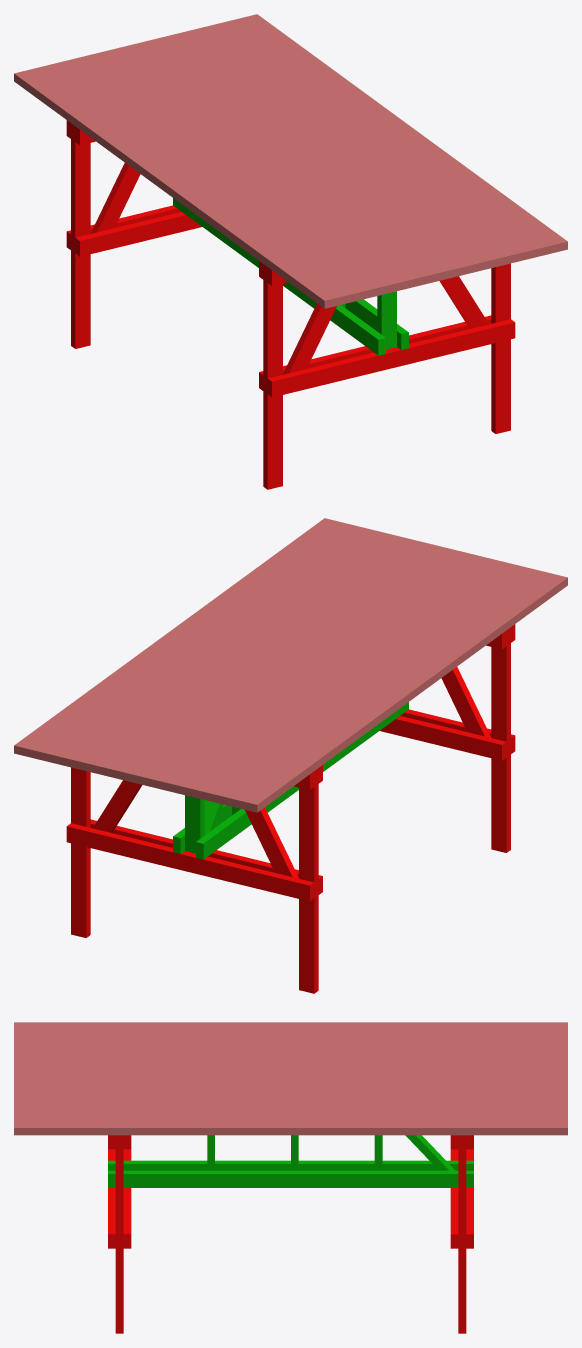
The model's file is result.glb.
3 views of the same model, one above another, from view 1: azimuth 30°, elevation 25°; view 2: azimuth 150°, elevation 25°; view 3: azimuth 270°, elevation 25° (orthographic). The views are drawn at different scales.
Visible parts, largest first — view 1: 2e5dbff4-7e6e-4b37-ae5a-a62b337b748b__Box, d8a2f453-8e41-4198-9125-2606ff28ac81__sideH, 3a6617b4-497f-40d8-8353-add4aff3ff43__undefined, c0702882-4c24-4a24-a7bd-75bc4d10ed25__undefined, 609f2d8e-eb8b-48f6-a338-ec105e350108__undefined, 65bbb1d0-a76b-483d-bd96-c185261b565a__undefined, e3b8385f-32c4-4f7a-b970-9d50a82313f0__undefined, 9fd2d7d8-3db6-44b7-8fa3-3d2e60d02439__undefined, 84f2c58b-4cb5-44fc-9f25-4331faf40ed3__undefined, 869bcd61-746a-4120-82ac-6669d7f2375c__undefined, ddca212f-6a4a-4507-9fed-6cb6863f570e__undefined, 0129117a-75e3-414b-b242-759e3826f28c__undefined (+17 smaller); view 2: 2e5dbff4-7e6e-4b37-ae5a-a62b337b748b__Box, db986cd5-3faa-4bac-8fbb-57eb998100ec__undefined, 3a6617b4-497f-40d8-8353-add4aff3ff43__undefined, c0702882-4c24-4a24-a7bd-75bc4d10ed25__undefined, 609f2d8e-eb8b-48f6-a338-ec105e350108__undefined, 65bbb1d0-a76b-483d-bd96-c185261b565a__undefined, e3b8385f-32c4-4f7a-b970-9d50a82313f0__undefined, 9fd2d7d8-3db6-44b7-8fa3-3d2e60d02439__undefined, 84f2c58b-4cb5-44fc-9f25-4331faf40ed3__undefined, 869bcd61-746a-4120-82ac-6669d7f2375c__undefined, ddca212f-6a4a-4507-9fed-6cb6863f570e__undefined, 0129117a-75e3-414b-b242-759e3826f28c__undefined (+16 smaller); view 3: 7abde069-73e8-4945-ae9b-445defb2497d__undefined, bd3e5400-415c-4033-a129-69759730e743__strutH, 9fd2d7d8-3db6-44b7-8fa3-3d2e60d02439__undefined, 0129117a-75e3-414b-b242-759e3826f28c__undefined, 869bcd61-746a-4120-82ac-6669d7f2375c__undefined, ddca212f-6a4a-4507-9fed-6cb6863f570e__undefined, 2e5dbff4-7e6e-4b37-ae5a-a62b337b748b__Box, 8a003cde-8c30-4a1c-accd-fa8a6be3bc64__undefined, 609f2d8e-eb8b-48f6-a338-ec105e350108__undefined, e3b8385f-32c4-4f7a-b970-9d50a82313f0__undefined, 84f2c58b-4cb5-44fc-9f25-4331faf40ed3__undefined, 1c7531ad-e49c-410e-b266-a51f5882a143__undefined (+13 smaller).
Boxes of the visible parts, x1=… form: 2e5dbff4-7e6e-4b37-ae5a-a62b337b748b__Box: x1=14, y1=70, x2=339, y2=308; d8a2f453-8e41-4198-9125-2606ff28ac81__sideH: x1=267, y1=319, x2=515, y2=397; 3a6617b4-497f-40d8-8353-add4aff3ff43__undefined: x1=166, y1=33, x2=491, y2=271; c0702882-4c24-4a24-a7bd-75bc4d10ed25__undefined: x1=212, y1=21, x2=537, y2=260; 609f2d8e-eb8b-48f6-a338-ec105e350108__undefined: x1=45, y1=62, x2=370, y2=301; 65bbb1d0-a76b-483d-bd96-c185261b565a__undefined: x1=227, y1=18, x2=552, y2=256; e3b8385f-32c4-4f7a-b970-9d50a82313f0__undefined: x1=60, y1=58, x2=385, y2=297; 9fd2d7d8-3db6-44b7-8fa3-3d2e60d02439__undefined: x1=75, y1=55, x2=400, y2=293; 84f2c58b-4cb5-44fc-9f25-4331faf40ed3__undefined: x1=90, y1=51, x2=415, y2=289; 869bcd61-746a-4120-82ac-6669d7f2375c__undefined: x1=151, y1=36, x2=476, y2=275; ddca212f-6a4a-4507-9fed-6cb6863f570e__undefined: x1=197, y1=25, x2=522, y2=264; 0129117a-75e3-414b-b242-759e3826f28c__undefined: x1=120, y1=44, x2=446, y2=282; 2e5dbff4-7e6e-4b37-ae5a-a62b337b748b__Box: x1=242, y1=574, x2=567, y2=812; db986cd5-3faa-4bac-8fbb-57eb998100ec__undefined: x1=66, y1=823, x2=314, y2=901; 3a6617b4-497f-40d8-8353-add4aff3ff43__undefined: x1=90, y1=537, x2=415, y2=775; c0702882-4c24-4a24-a7bd-75bc4d10ed25__undefined: x1=44, y1=525, x2=369, y2=764; 609f2d8e-eb8b-48f6-a338-ec105e350108__undefined: x1=211, y1=566, x2=536, y2=805; 65bbb1d0-a76b-483d-bd96-c185261b565a__undefined: x1=29, y1=522, x2=354, y2=760; e3b8385f-32c4-4f7a-b970-9d50a82313f0__undefined: x1=196, y1=562, x2=521, y2=801; 9fd2d7d8-3db6-44b7-8fa3-3d2e60d02439__undefined: x1=181, y1=559, x2=506, y2=797; 84f2c58b-4cb5-44fc-9f25-4331faf40ed3__undefined: x1=166, y1=555, x2=491, y2=793; 869bcd61-746a-4120-82ac-6669d7f2375c__undefined: x1=105, y1=540, x2=430, y2=779; ddca212f-6a4a-4507-9fed-6cb6863f570e__undefined: x1=59, y1=529, x2=384, y2=768; 0129117a-75e3-414b-b242-759e3826f28c__undefined: x1=135, y1=548, x2=461, y2=786; 7abde069-73e8-4945-ae9b-445defb2497d__undefined: x1=14, y1=1121, x2=567, y2=1135; bd3e5400-415c-4033-a129-69759730e743__strutH: x1=108, y1=1170, x2=473, y2=1187; 9fd2d7d8-3db6-44b7-8fa3-3d2e60d02439__undefined: x1=14, y1=1048, x2=567, y2=1055; 0129117a-75e3-414b-b242-759e3826f28c__undefined: x1=14, y1=1068, x2=567, y2=1075; 869bcd61-746a-4120-82ac-6669d7f2375c__undefined: x1=14, y1=1081, x2=567, y2=1088; ddca212f-6a4a-4507-9fed-6cb6863f570e__undefined: x1=14, y1=1101, x2=567, y2=1108; 2e5dbff4-7e6e-4b37-ae5a-a62b337b748b__Box: x1=14, y1=1022, x2=567, y2=1028; 8a003cde-8c30-4a1c-accd-fa8a6be3bc64__undefined: x1=14, y1=1029, x2=567, y2=1035; 609f2d8e-eb8b-48f6-a338-ec105e350108__undefined: x1=14, y1=1035, x2=567, y2=1041; e3b8385f-32c4-4f7a-b970-9d50a82313f0__undefined: x1=14, y1=1042, x2=567, y2=1048; 84f2c58b-4cb5-44fc-9f25-4331faf40ed3__undefined: x1=14, y1=1055, x2=567, y2=1061; 1c7531ad-e49c-410e-b266-a51f5882a143__undefined: x1=14, y1=1062, x2=567, y2=1068.
Bounding box in the file's own units: 800 × 725 × 1770.
